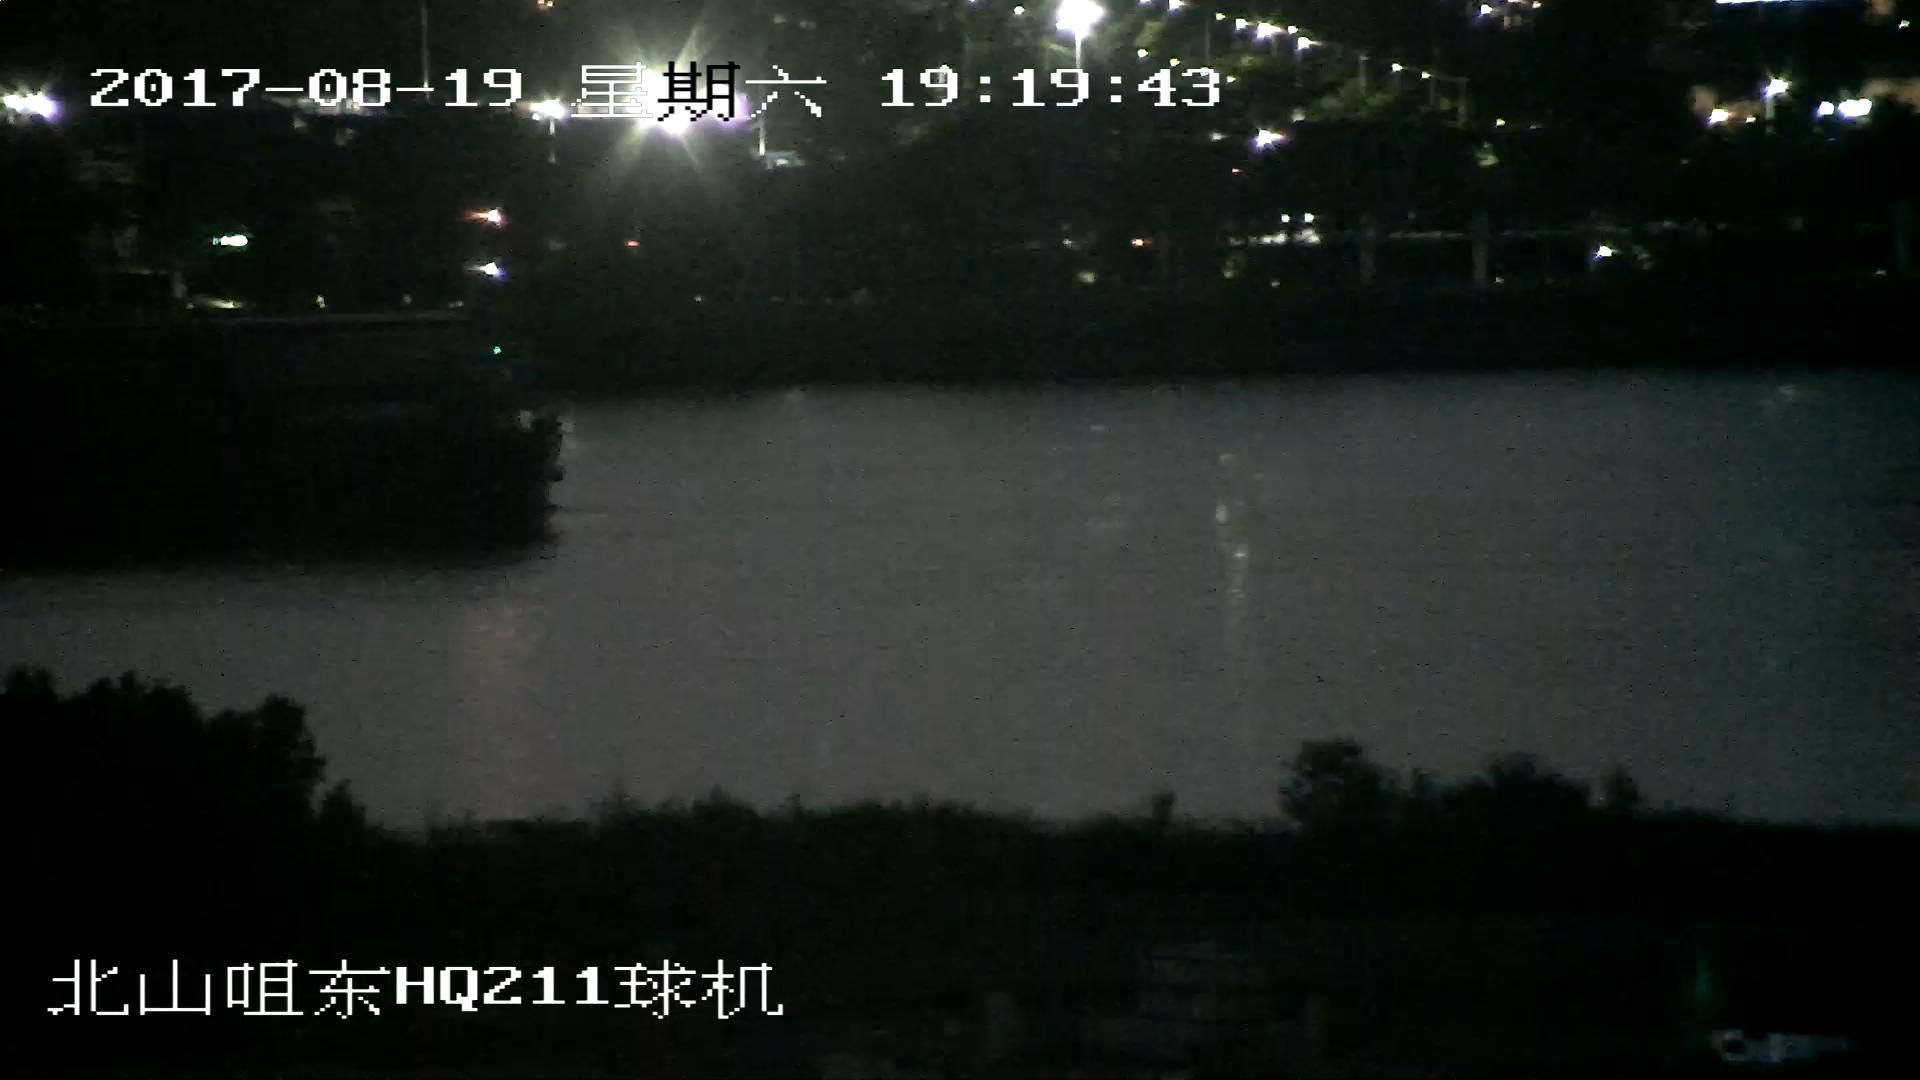container ship: (1, 312, 564, 567)
